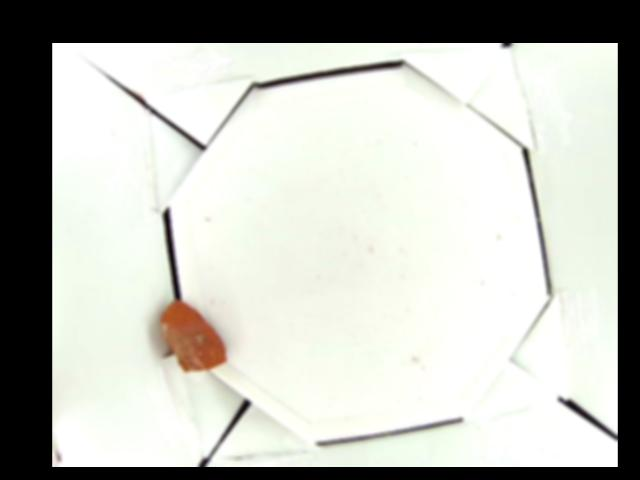Brisk: (165, 298, 227, 369)
